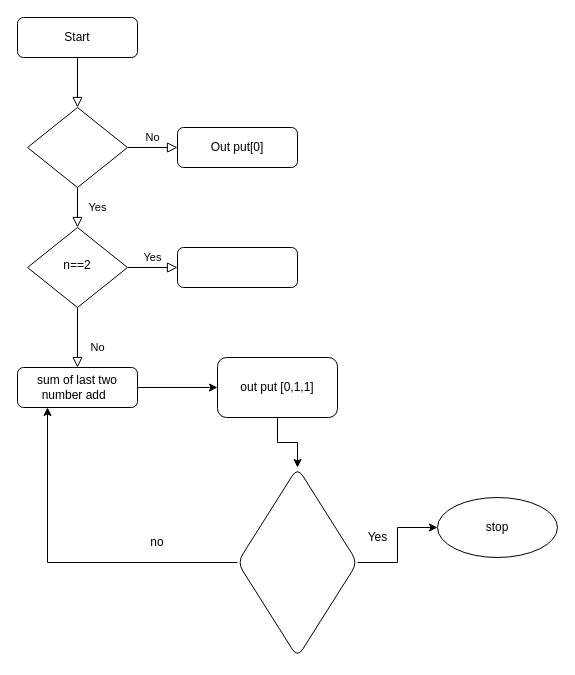
The diagram is 575 pixels wide and 675 high, and some of its shapes have lost their labels. Here are the shapes that lost their labels. From the top down, the centre of each, then its label:
At point (77, 147): "n==1".
At point (237, 267): "out put[0,1]".
At point (297, 562): "n=no of items in the array".
